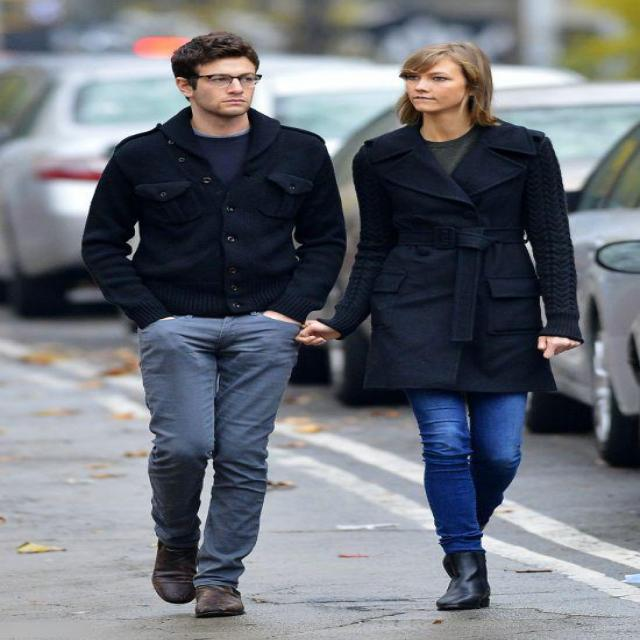Manusia: (70, 19, 349, 624)
